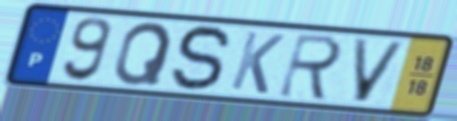9: (61, 15, 115, 84)
K: (226, 29, 288, 97)
Q: (111, 20, 176, 87)
R: (274, 31, 347, 103)
S: (168, 23, 235, 94)
V: (350, 36, 410, 105)
